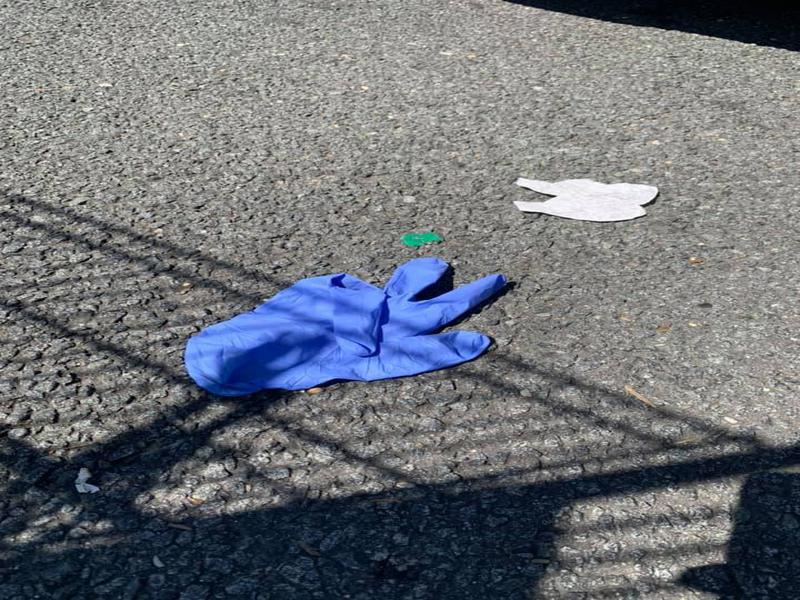gloves: (177, 251, 511, 400), (511, 170, 661, 227)
